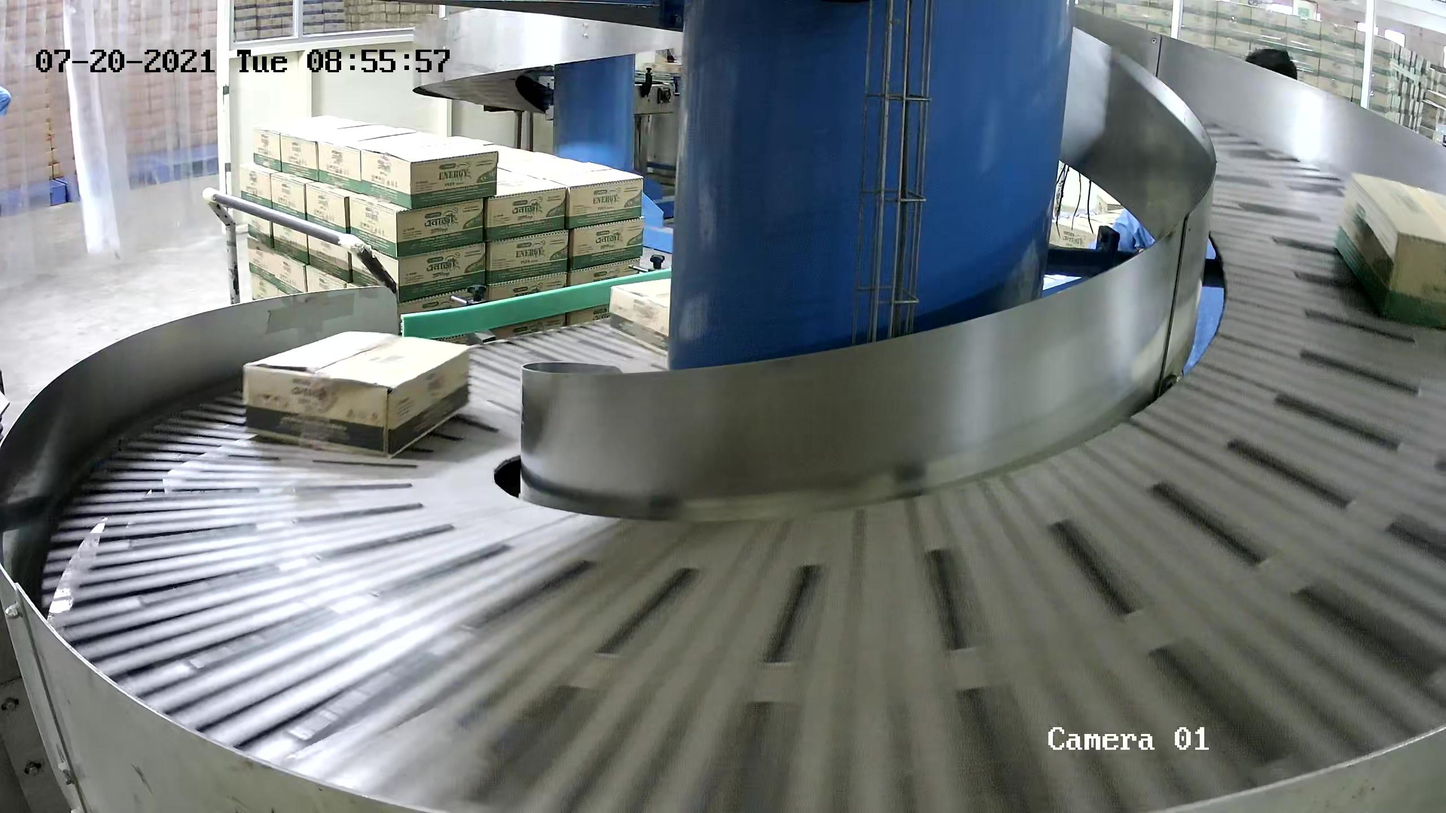Box: (241, 329, 472, 460), (1331, 170, 1446, 329), (608, 277, 673, 356)
